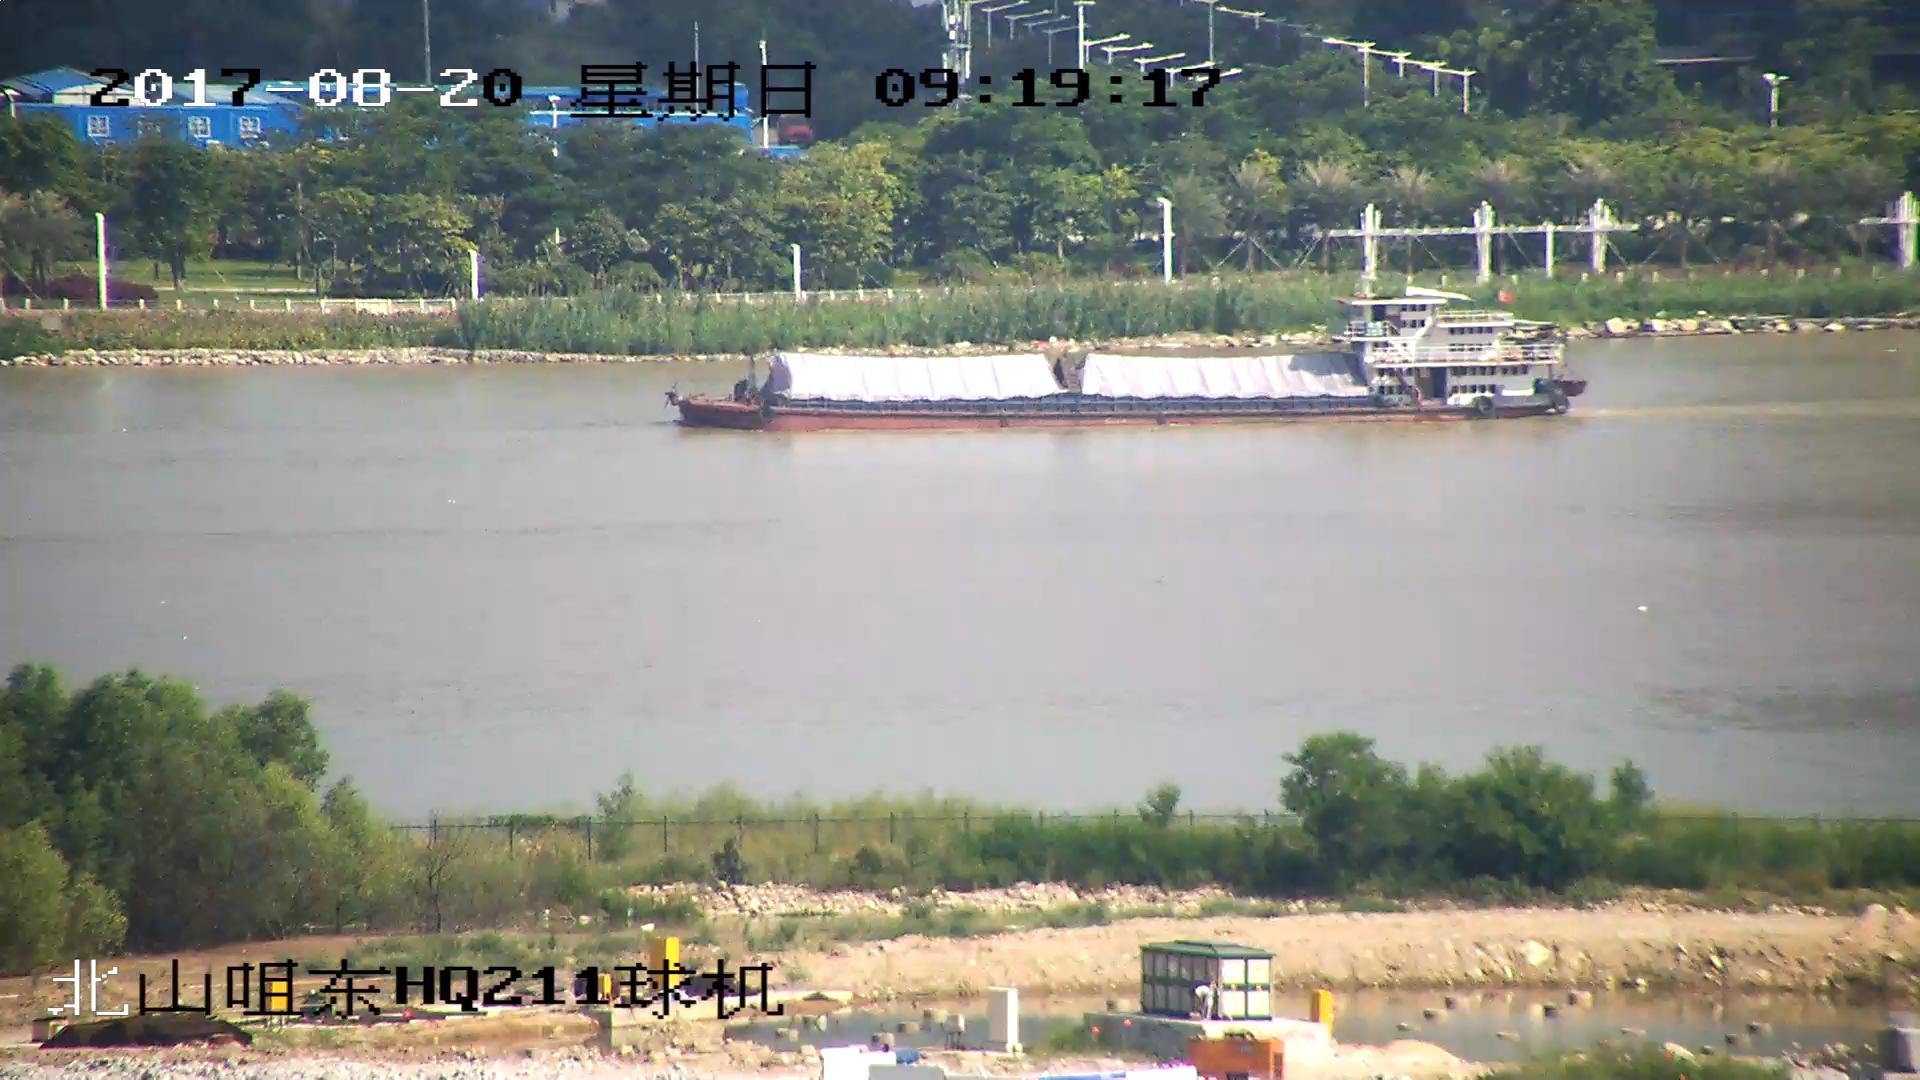Ship: (673, 287, 1588, 429)
